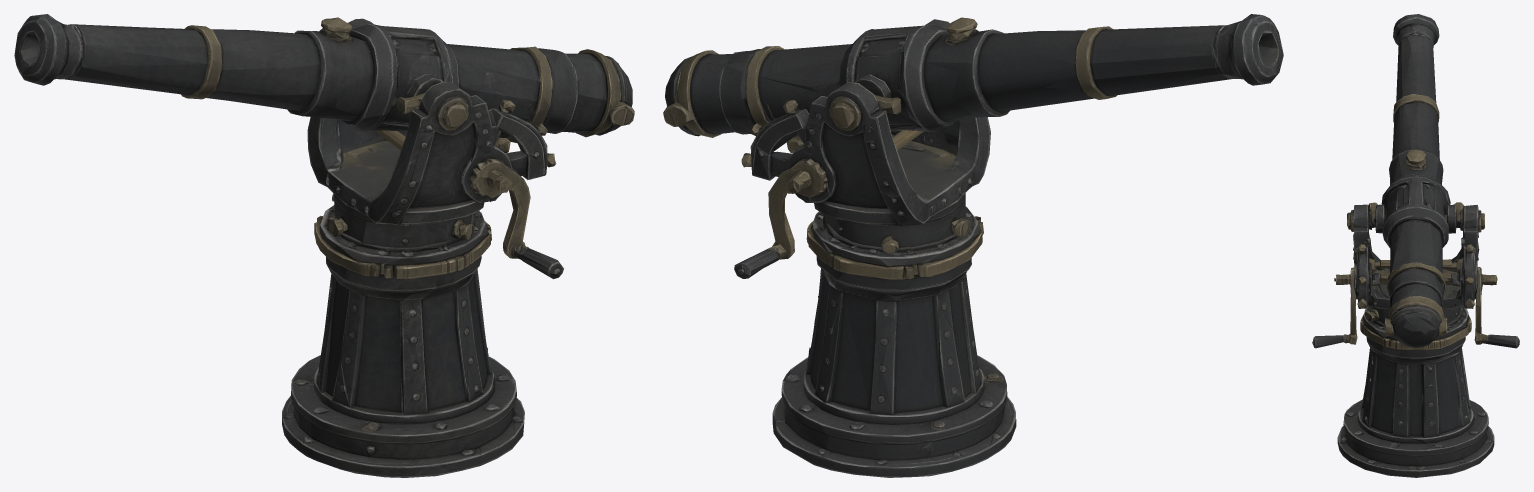
The picture shows the model from 3 angles, left to right: view 1: azimuth 30°, elevation 25°; view 2: azimuth 150°, elevation 25°; view 3: azimuth 270°, elevation 25°; orthographic projection. The views are drawn at different scales.
Visible parts, largest first — view 1: mesh_node; view 2: mesh_node; view 3: mesh_node.
Part boxes in pixels (box(x1,y1,x2,y2)): mesh_node: box(14, 14, 634, 477); mesh_node: box(663, 14, 1283, 477); mesh_node: box(1312, 14, 1519, 477).
Bounding box in the file's own units: 1.9 × 1.49 × 0.8799.
1 material, 1 textured.
